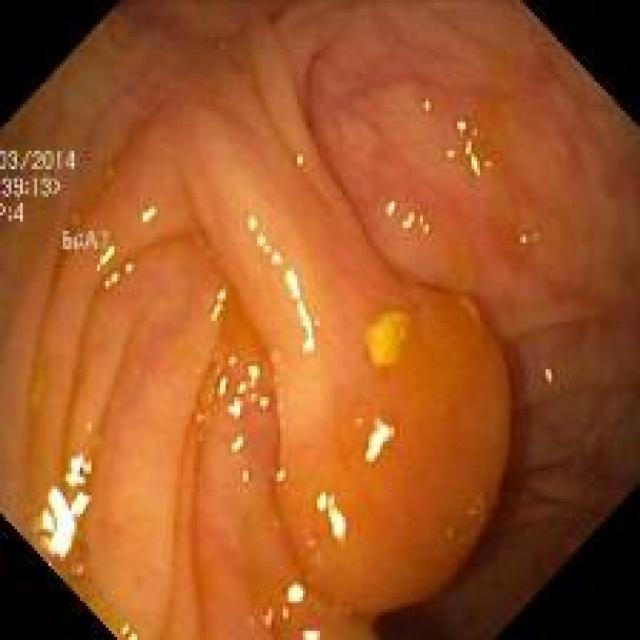Polyps: (278, 287, 510, 609)
